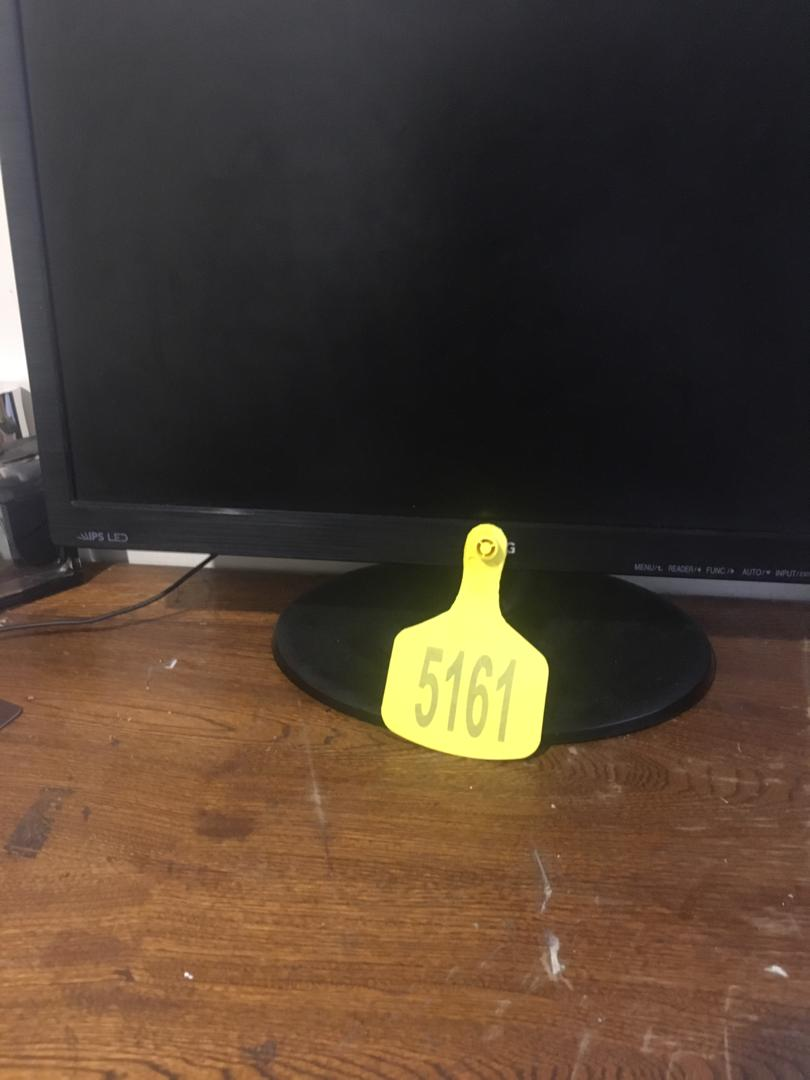digit: (413, 642, 518, 746)
